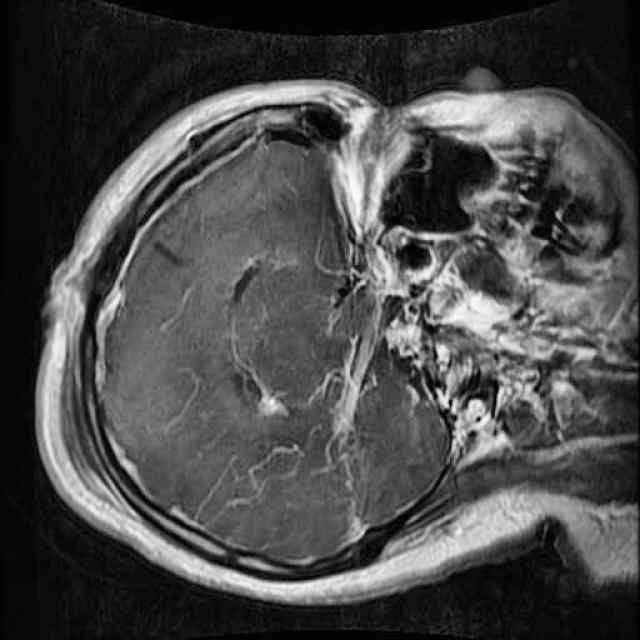Tumor: (229, 358, 307, 444)
